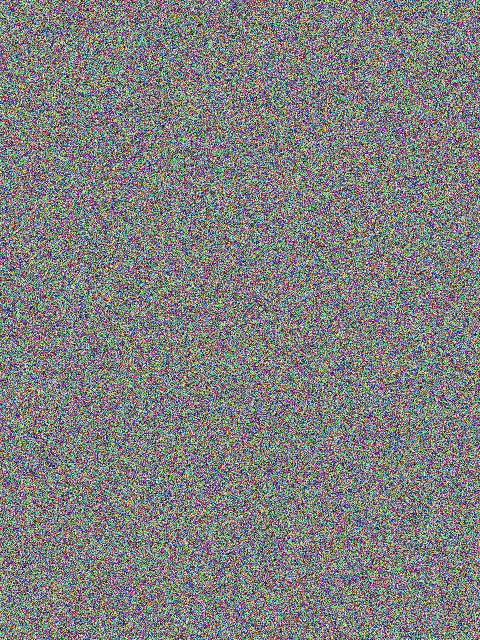cat: (238, 367, 380, 516)
